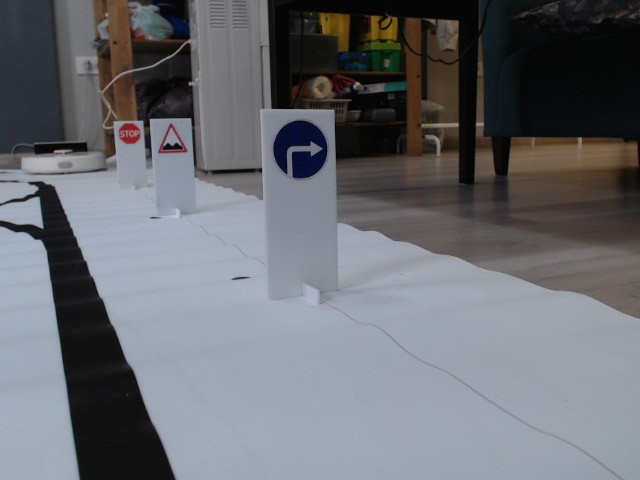Nerov: (157, 122, 188, 153)
Right: (273, 119, 328, 179)
Stop: (119, 122, 141, 144)
